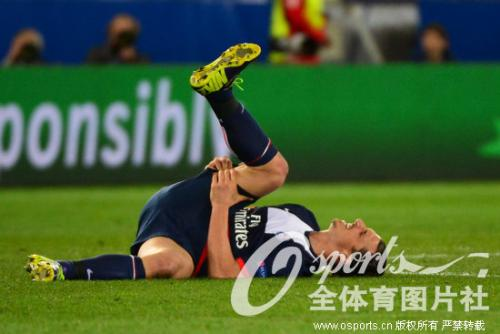fall: (16, 27, 413, 295)
